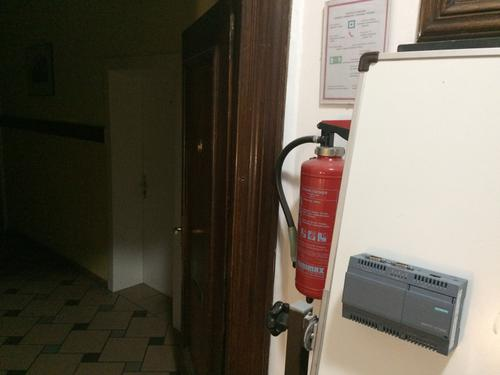iot2000: (342, 253, 470, 358)
